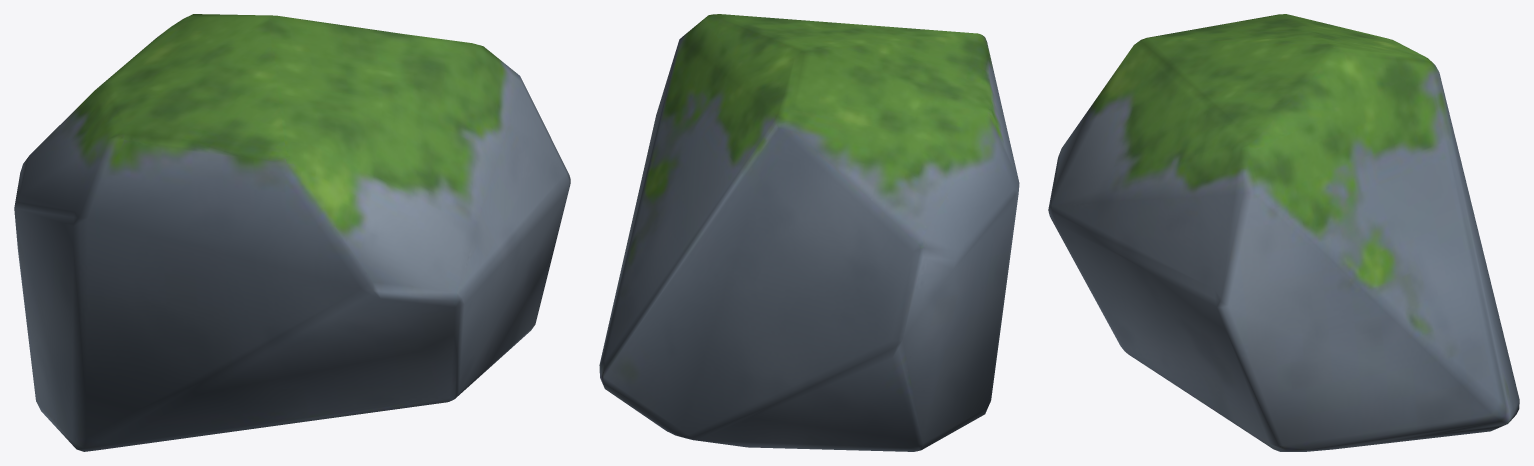
Rendered from rock_d_lod1.glb.
3 renders of one model, left to right at view 1: azimuth 30°, elevation 25°; view 2: azimuth 150°, elevation 25°; view 3: azimuth 270°, elevation 25°, orthographic. The views are drawn at different scales.
Parts seen in each view (by area): view 1: rock_d_lod1; view 2: rock_d_lod1; view 3: rock_d_lod1.
Boxes of the visible parts, x1=… form: rock_d_lod1: x1=14, y1=14, x2=570, y2=451; rock_d_lod1: x1=599, y1=14, x2=1019, y2=451; rock_d_lod1: x1=1048, y1=14, x2=1519, y2=451.
Bounding box in the file's own units: 1.83 × 1.52 × 1.84.
1 material, 1 textured.
